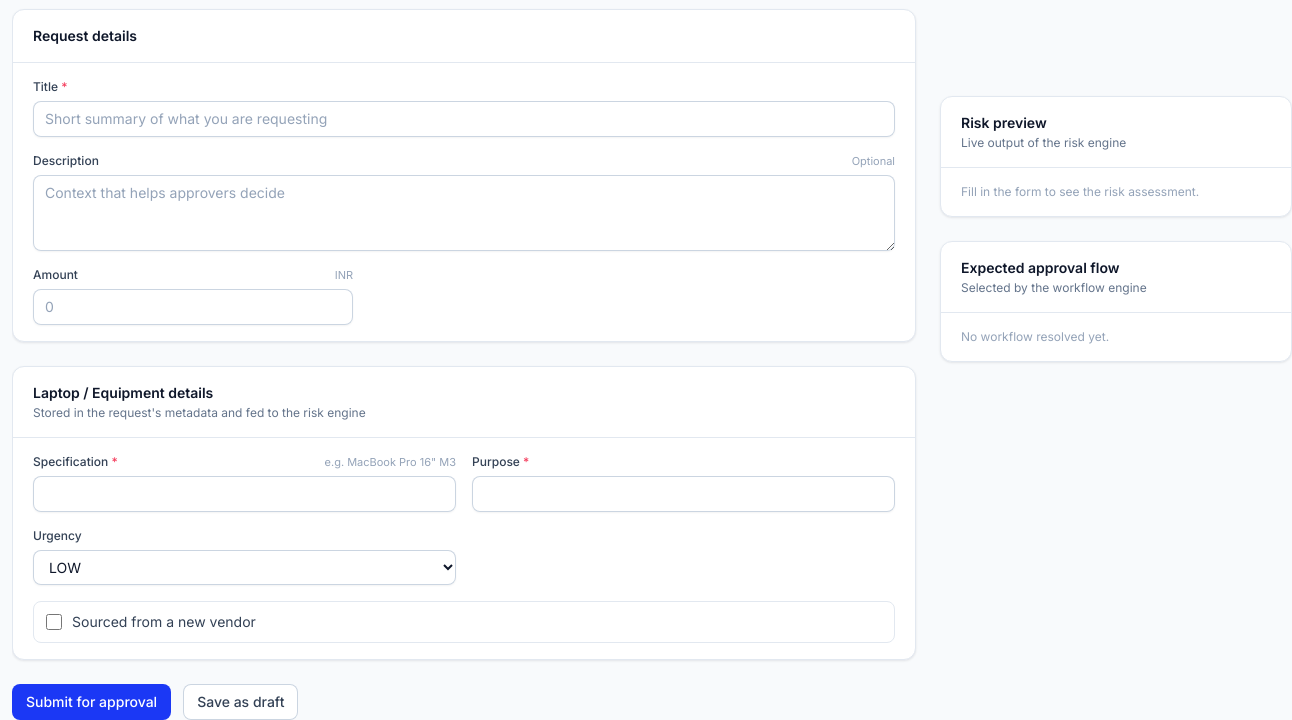
Raise a request › refuses to save while the required fields are incomplete
The image size is (1292, 720).
(page scrolled)
What coordinates should you click on to do the following:
click the button "Submit for approval"
I would click on:
 (92, 702)
Its box is [12, 684, 171, 719].
(page scrolled)
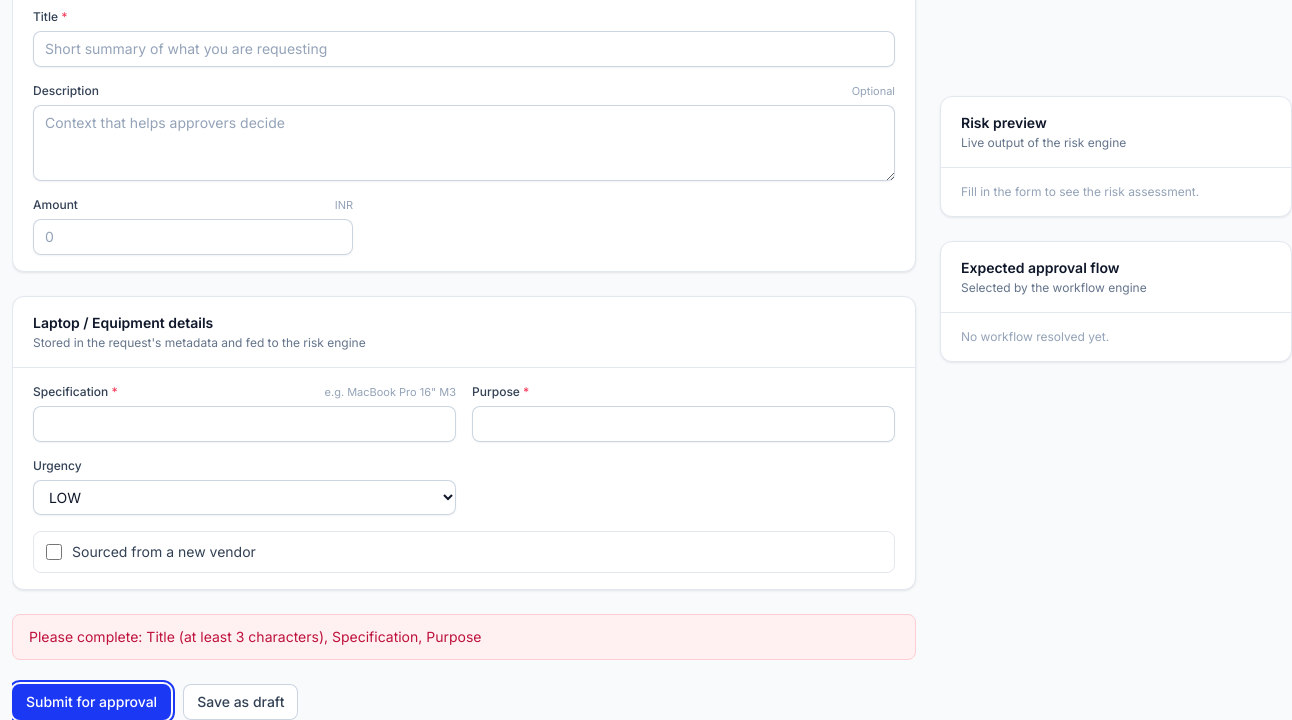
Result: the text "Please complete" shows "Title" at [29, 628, 482, 645]
